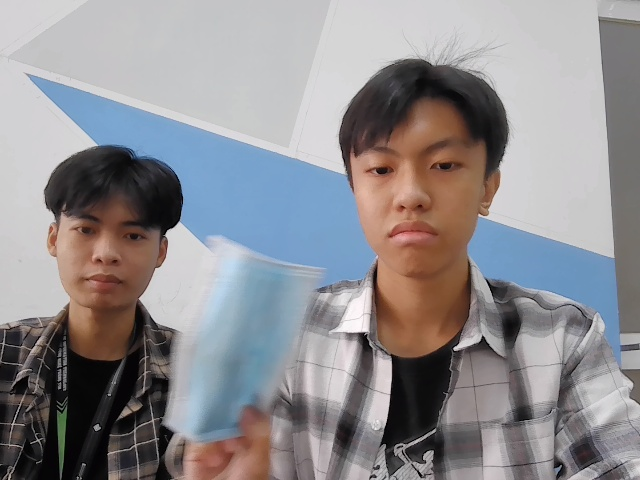human: (337, 49, 513, 273), (41, 131, 180, 306)
mask: (162, 235, 320, 444)
